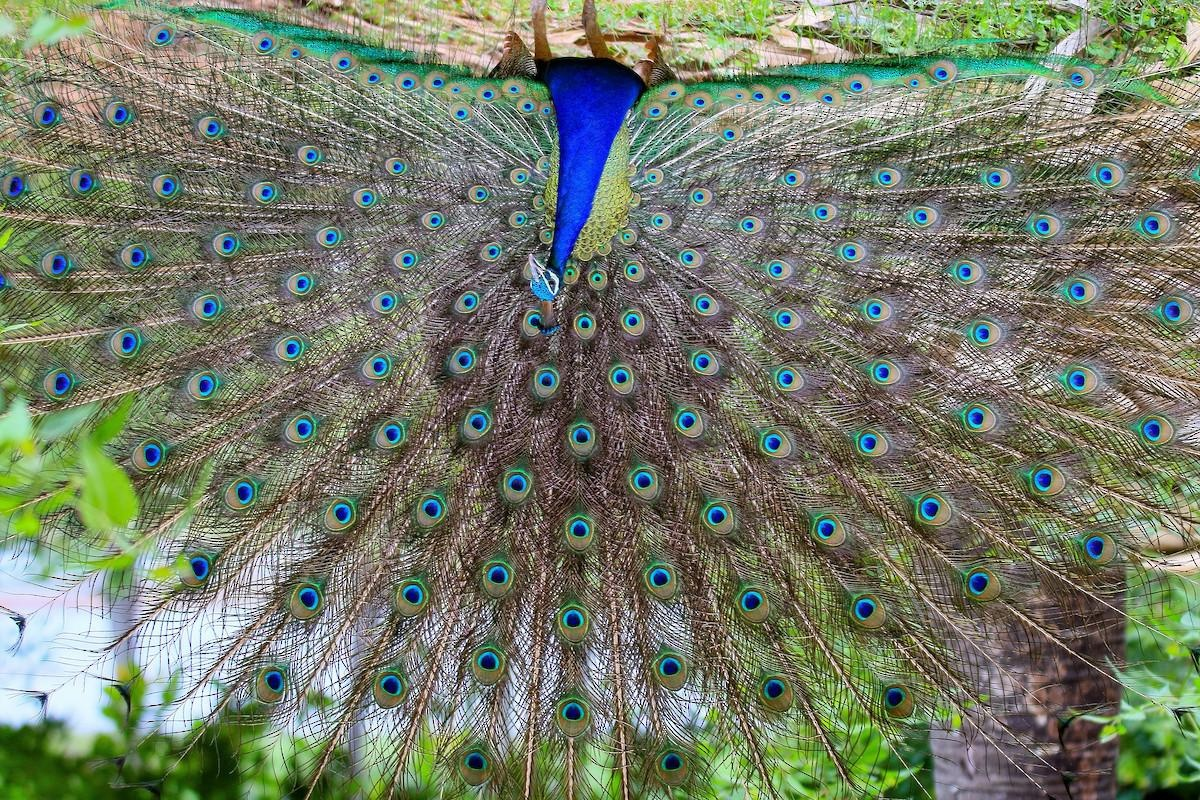peacock: (30, 18, 1200, 746)
